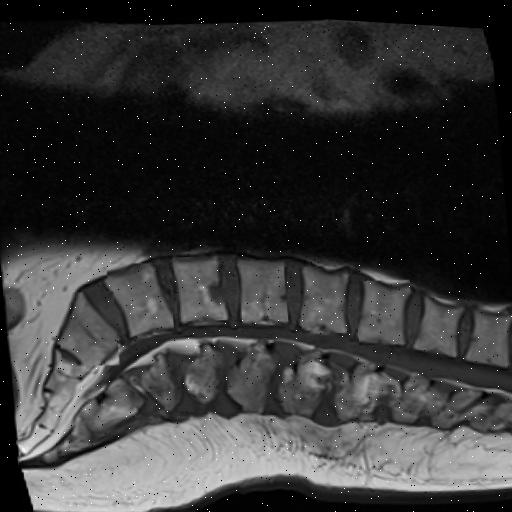L1: (356, 276, 410, 340)
L2: (299, 263, 348, 329)
L3: (237, 257, 288, 320)
L4: (172, 255, 227, 319)
L5: (106, 261, 173, 334)
S1: (59, 293, 117, 365)
